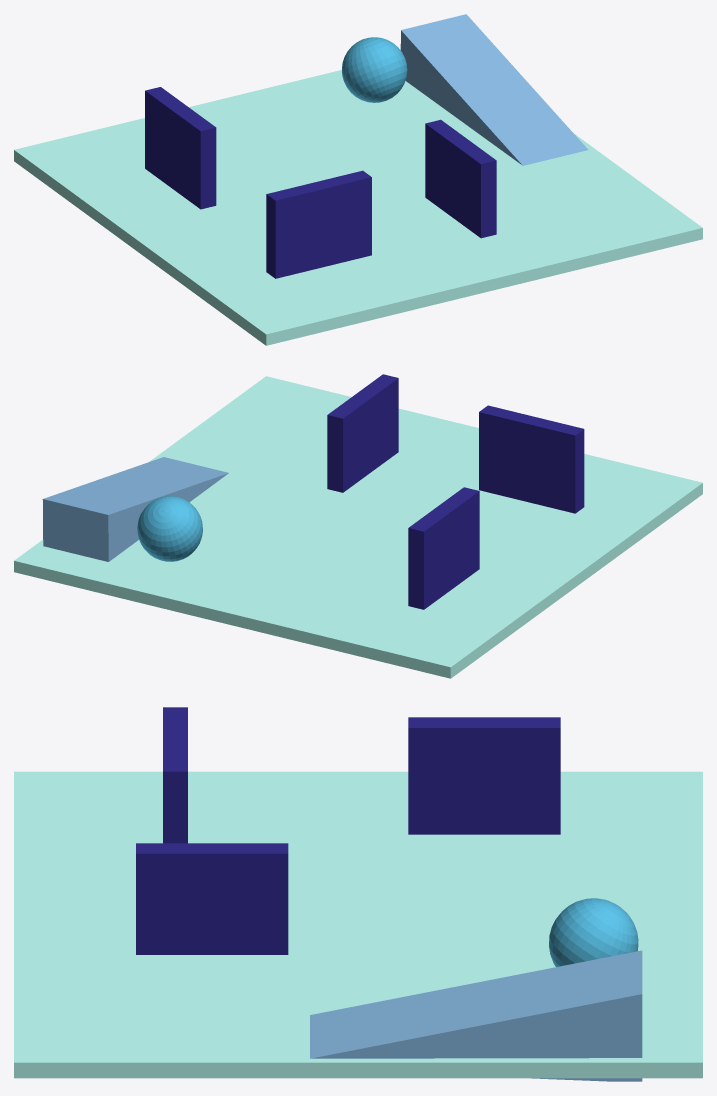
The model's file is first.glb.
3 views of the same model, one above another, from view 1: azimuth 30°, elevation 25°; view 2: azimuth 150°, elevation 25°; view 3: azimuth 270°, elevation 25° (orthographic). The views are drawn at different scales.
Parts seen in each view (by area): view 1: Cube, Cube.001, Cube.004, Cube.002, Cube.003, Sphere; view 2: Cube, Cube.001, Cube.004, Cube.002, Cube.003, Sphere; view 3: Cube, Cube.001, Cube.002, Cube.003, Sphere, Cube.004.
Boxes of the visible parts, x1,y1,x2,y2 form: Cube: (14,70,702,345); Cube.001: (400,14,588,165); Cube.004: (266,170,371,278); Cube.002: (145,87,216,209); Cube.003: (425,119,496,238); Sphere: (342,37,407,102); Cube: (14,376,702,678); Cube.001: (42,457,228,561); Cube.004: (479,405,584,513); Cube.002: (408,487,479,609); Cube.003: (327,374,398,492); Sphere: (137,496,202,561); Cube: (14,771,702,1078); Cube.001: (310,950,642,1081); Cube.002: (408,717,560,834); Cube.003: (136,843,288,954); Sphere: (549,898,638,966); Cube.004: (163,707,187,843).
Bounding box in the file's own units: 40 × 8.34 × 40.
